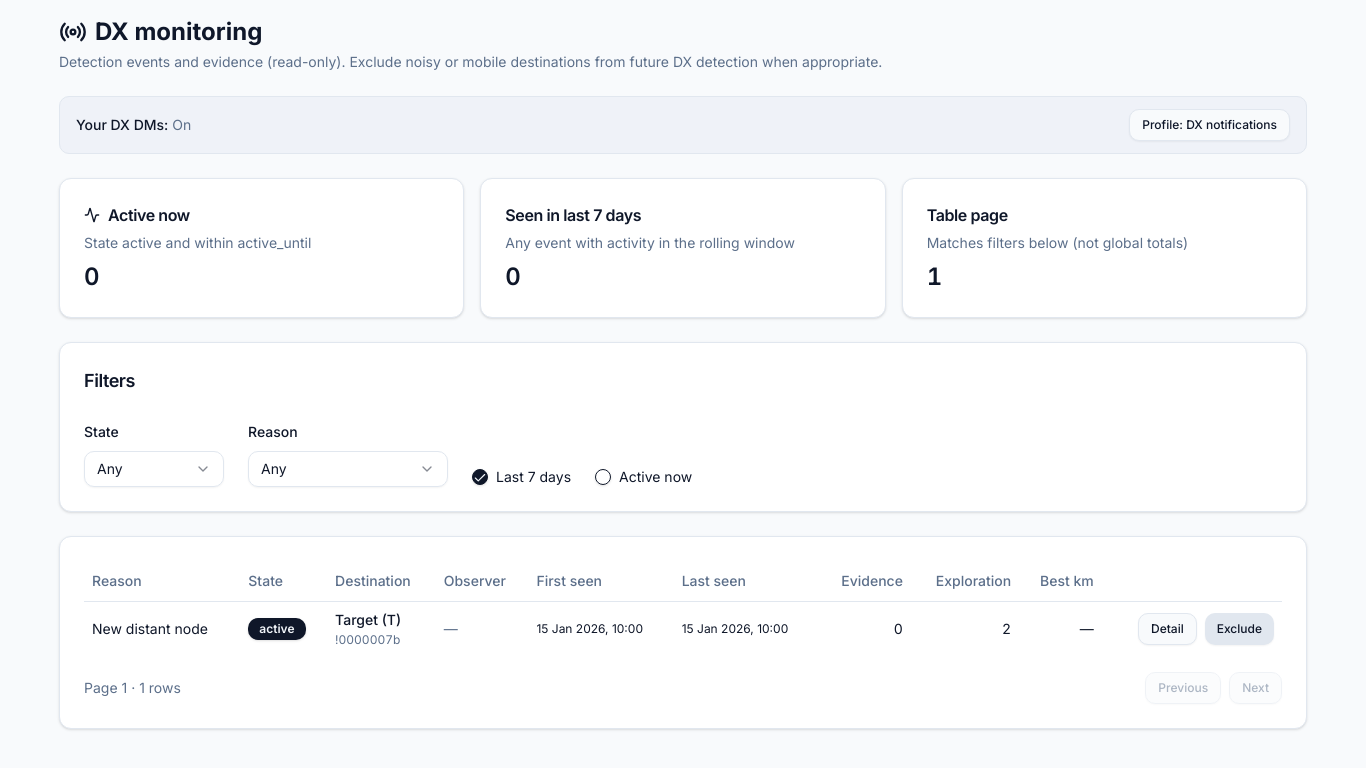
Test: DxMonitoringPage › shows exploration evidence, baseline messaging, and skip reasons in the detail modal
Click the button "Detail" at [1167, 628], box [1138, 612, 1197, 644]
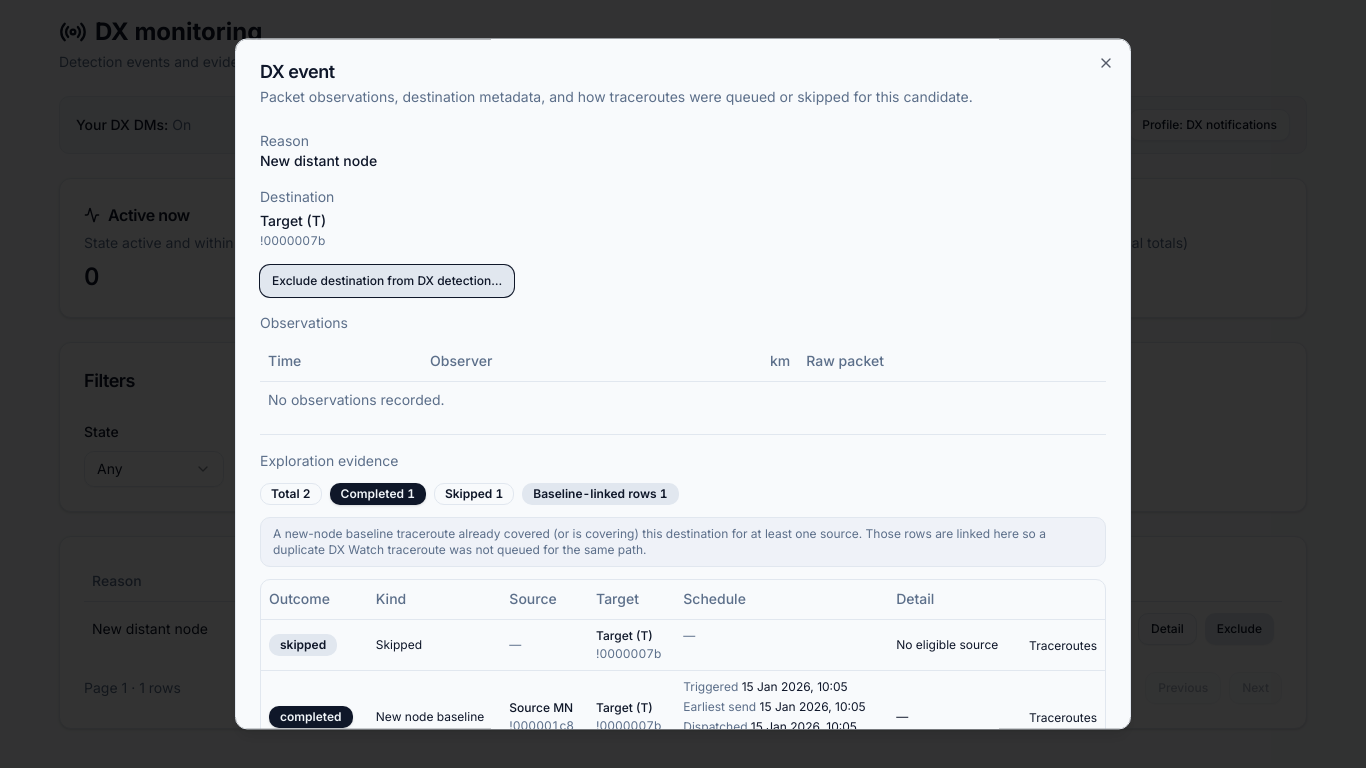
Now the text "Exploration evidence" is shown, box [260, 452, 398, 469]
Now the text "Baseline-linked rows 1" is shown, box [522, 483, 679, 505]
Now the text "new-node baseline traceroute already covered" is shown, box [273, 526, 1046, 557]
